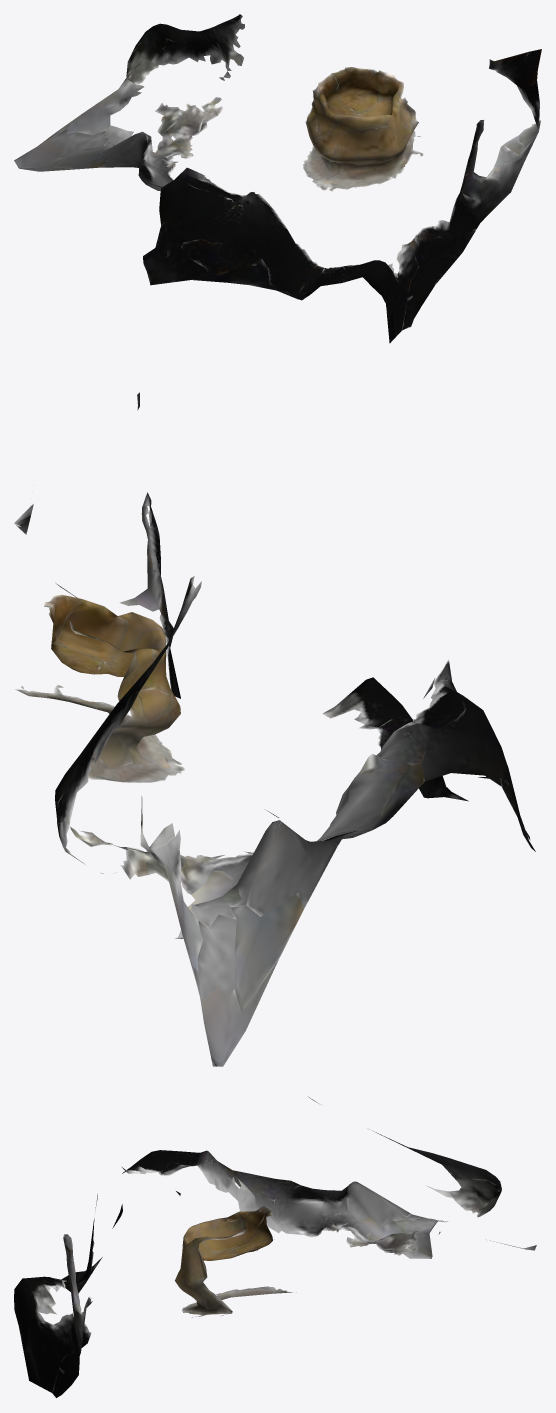
File: hall.glb
3 views of the same model, one above another, from view 1: azimuth 30°, elevation 25°; view 2: azimuth 150°, elevation 25°; view 3: azimuth 270°, elevation 25° (orthographic). The views are drawn at different scales.
Bounding box in the file's own units: 0.8927 × 0.5818 × 1.02.
Materials: 1 (1 with a texture image).
